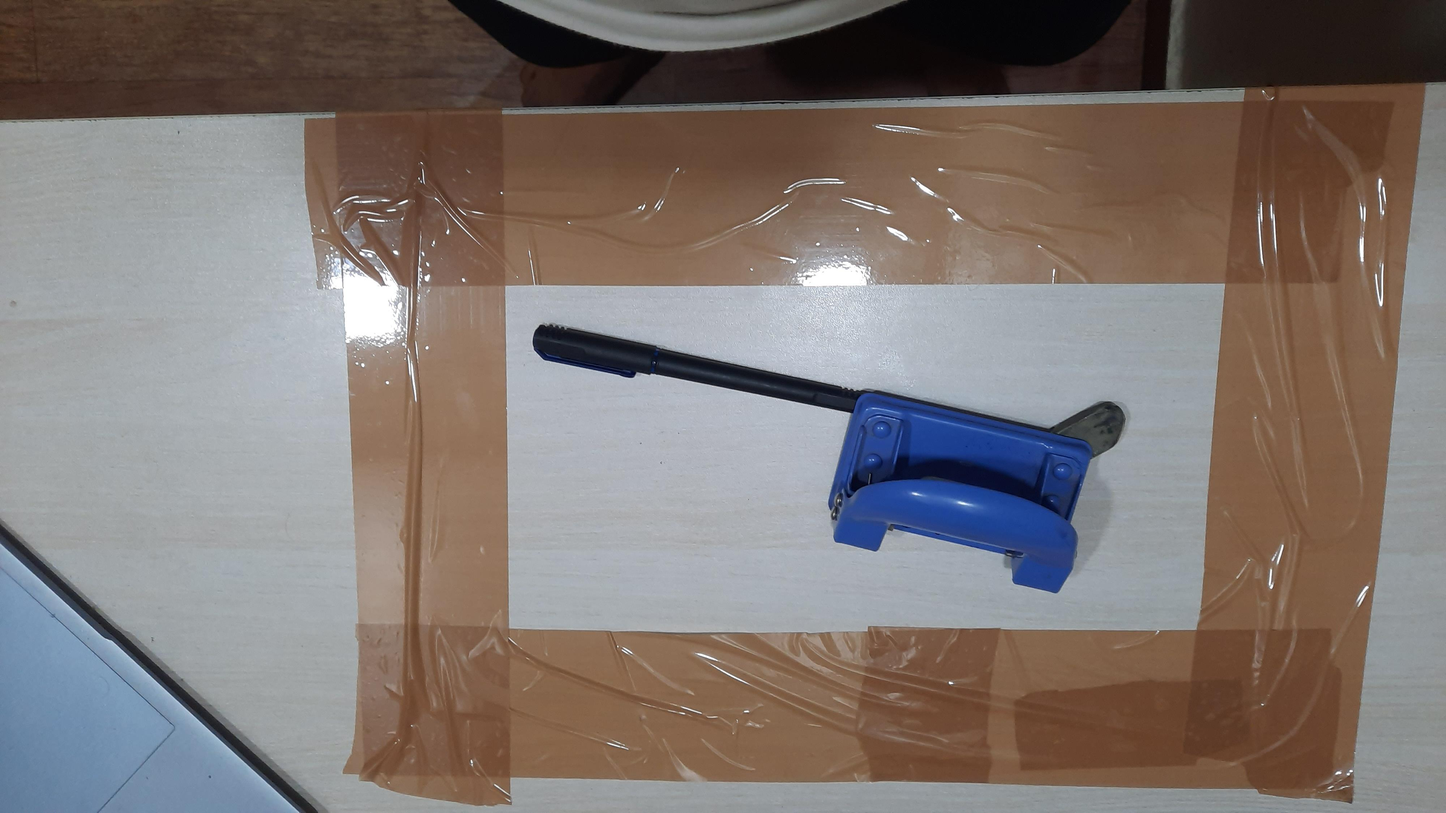Eraser: (1049, 401, 1126, 459)
Pen: (532, 323, 862, 414)
Punch: (828, 391, 1094, 594)
